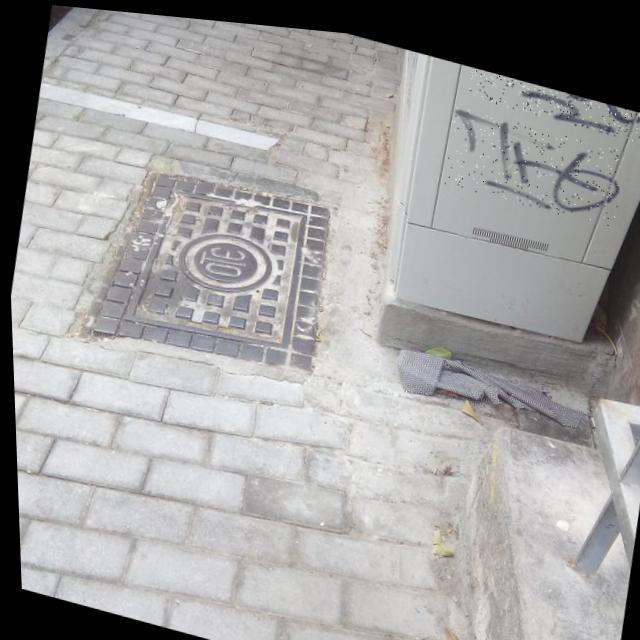-: (441, 96, 626, 218), (467, 56, 640, 132)
